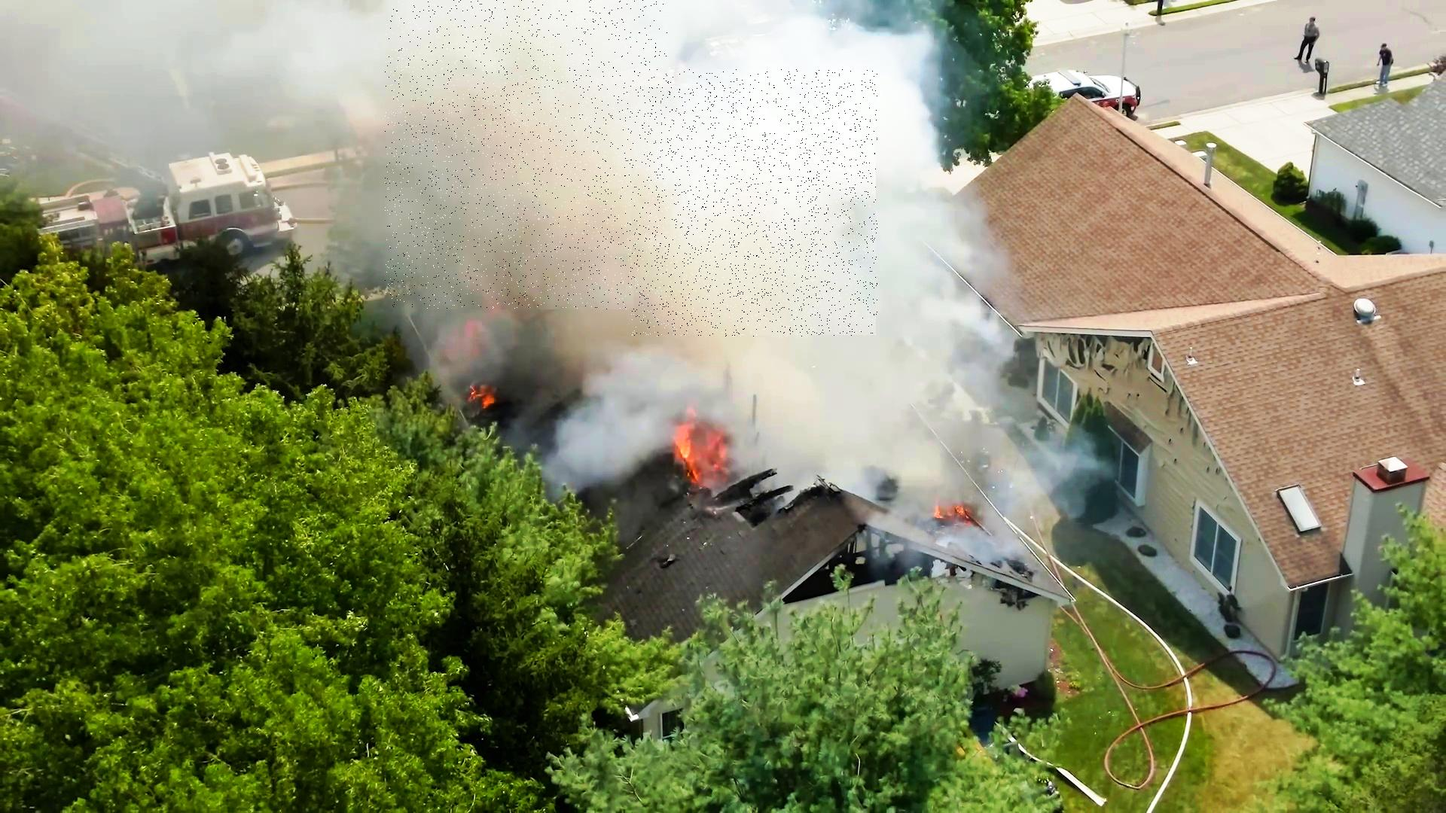smoke: (385, 0, 669, 309), (630, 70, 878, 337)
